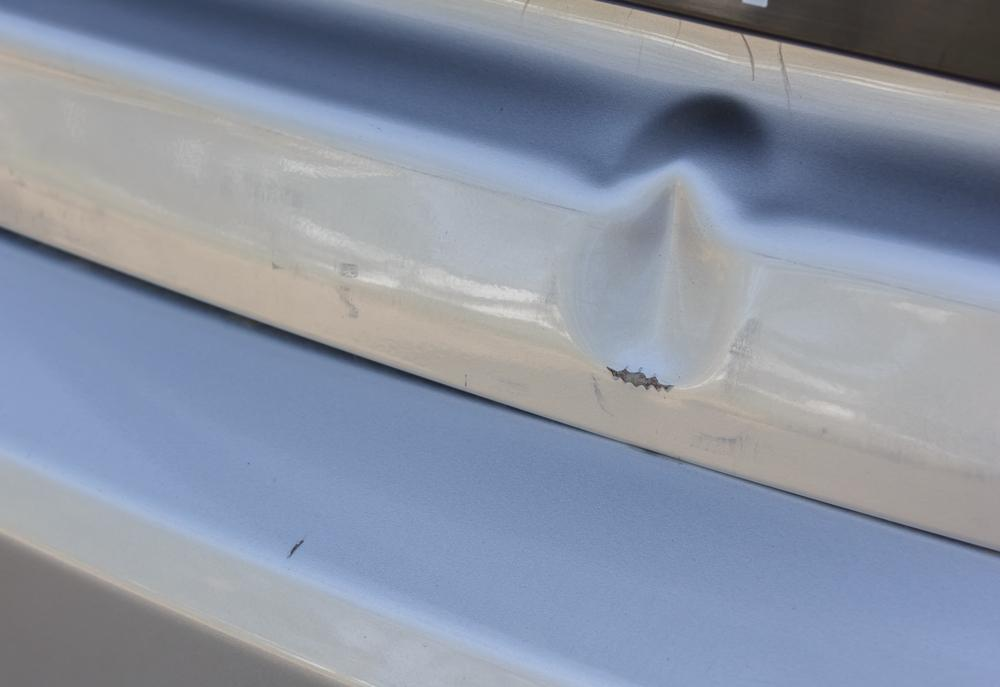dent: (572, 93, 788, 395)
